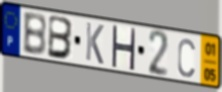2: (147, 27, 170, 79)
B: (46, 13, 75, 61), (22, 12, 48, 58)
C: (176, 36, 196, 79)
H: (110, 24, 137, 73)
K: (85, 20, 105, 67)
